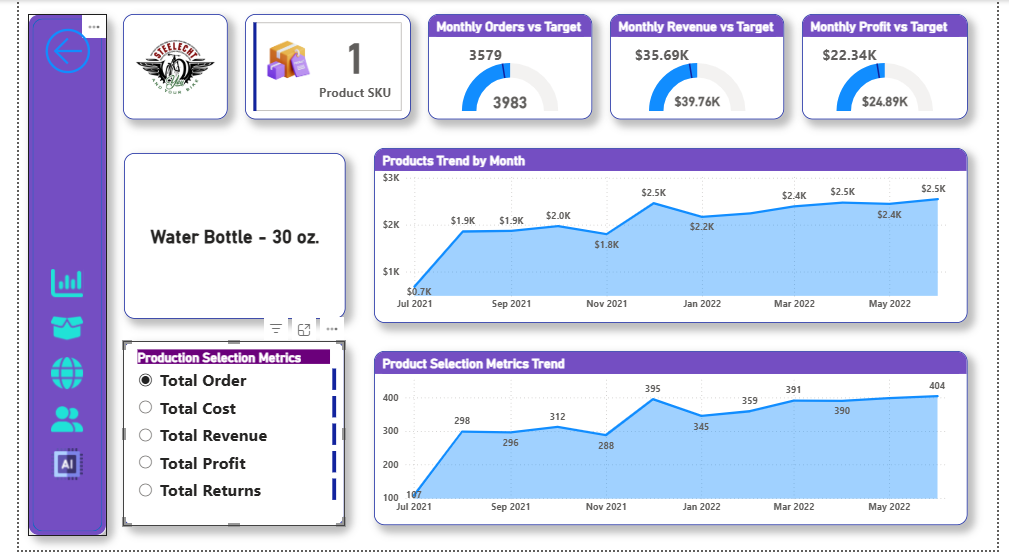

The dashboard page shown, as its layout file describes it:
{"tool":"powerbi","page":{"name":"Product Dashbord","canvas":[1280,720],"ordinal":2},"visuals":[{"type":"image","box":[136.7,18.5,136.7,138.1],"z":0},{"type":"shape","box":[11.7,18.3,103.3,683.3],"z":1000,"group":"g1"},{"type":"gauge","title":"Monthly Orders vs Target","fields":{"Y":["_Measures.Total  Order"],"TargetValue":["_Measures.Previous Month Order"]},"box":[535.8,18.4,215,138.3],"z":1000},{"type":"gauge","title":"Monthly Revenue vs Target","fields":{"Y":["_Measures.Total Revenue"],"TargetValue":["_Measures.Previous Month Revenue"]},"box":[773.7,18.4,228.3,138.3],"z":2000},{"type":"gauge","title":"Monthly Profit vs Target","fields":{"Y":["_Measures.Total Profit"],"TargetValue":["_Measures.Previous Month Profit"]},"box":[1025,18.4,216.7,138.3],"z":3000},{"type":"cardVisual","title":"Monthly Return vs Target","fields":{"Data":["CountNonNull(Product Lookup.ProductKey)"]},"box":[296.2,18.4,216.7,138.3],"z":4000},{"type":"card","title":"Most Order Product","fields":{"Values":["Min(Product Lookup.ProductName)"]},"box":[137.1,200,290,217.1],"z":5000},{"type":"areaChart","title":"Products Trend by Month","fields":{"Category":["Calendar Lookup.Date Hierarchy.Year","Calendar Lookup.Date Hierarchy.Start of Month","Calendar Lookup.Date Hierarchy.Start of Quarter","Calendar Lookup.Date Hierarchy.Date"],"Y":["_Measures.Total Profit"]},"box":[464.3,194.3,777.1,228.6],"z":6000},{"type":"areaChart","title":"Product Selection Metrics Trend","fields":{"Y":["_Measures.Total  Order"],"Category":["Calendar Lookup.Date Hierarchy.Year","Calendar Lookup.Date Hierarchy.Start of Month","Calendar Lookup.Date Hierarchy.Start of Quarter","Calendar Lookup.Date Hierarchy.Date"]},"box":[465,460,776.7,228.3],"z":7000},{"type":"slicer","fields":{"Values":["Production Selection Metrics.Production Selection Metrics"]},"box":[136.7,446.7,290,241.7],"z":8000},{"type":"group","id":"g1","title":"Group 2","box":[11.7,18.3,103.3,683.3],"z":9000},{"type":"actionButton","box":[21.7,30,83.3,73.3],"z":10000},{"type":"actionButton","box":[25,345,75,50],"z":14000,"group":"g2"},{"type":"actionButton","box":[25,404.2,75,50],"z":15000,"group":"g2"},{"type":"actionButton","box":[25,463.3,75,50],"z":16000,"group":"g2"},{"type":"actionButton","box":[25,522.5,75,50],"z":17000,"group":"g2"},{"type":"actionButton","box":[25,581.7,75,50],"z":18000,"group":"g2"},{"type":"group","id":"g2","title":"Group 1","box":[25,345,75,286.7],"z":18001,"group":"g1"}]}

Visuals, with their boxes in screenshot pixels (x1, y1, x2, y2):
image: [left=123, top=11, right=227, bottom=117]
shape: [left=27, top=11, right=106, bottom=533]
"Monthly Orders vs Target" gauge: [left=427, top=11, right=591, bottom=117]
"Monthly Revenue vs Target" gauge: [left=609, top=11, right=783, bottom=117]
"Monthly Profit vs Target" gauge: [left=800, top=11, right=966, bottom=117]
"Monthly Return vs Target" cardVisual: [left=244, top=11, right=410, bottom=117]
"Most Order Product" card: [left=123, top=150, right=344, bottom=316]
"Products Trend by Month" areaChart: [left=373, top=146, right=966, bottom=320]
"Product Selection Metrics Trend" areaChart: [left=373, top=348, right=966, bottom=523]
slicer - Production Selection Metrics.Production Selection Metrics: [left=123, top=338, right=344, bottom=523]
"Group 2" group: [left=27, top=11, right=106, bottom=533]
actionButton: [left=35, top=20, right=99, bottom=76]
actionButton: [left=37, top=261, right=95, bottom=299]
actionButton: [left=37, top=306, right=95, bottom=344]
actionButton: [left=37, top=351, right=95, bottom=389]
actionButton: [left=37, top=396, right=95, bottom=434]
actionButton: [left=37, top=441, right=95, bottom=479]
"Group 1" group: [left=37, top=261, right=95, bottom=479]
